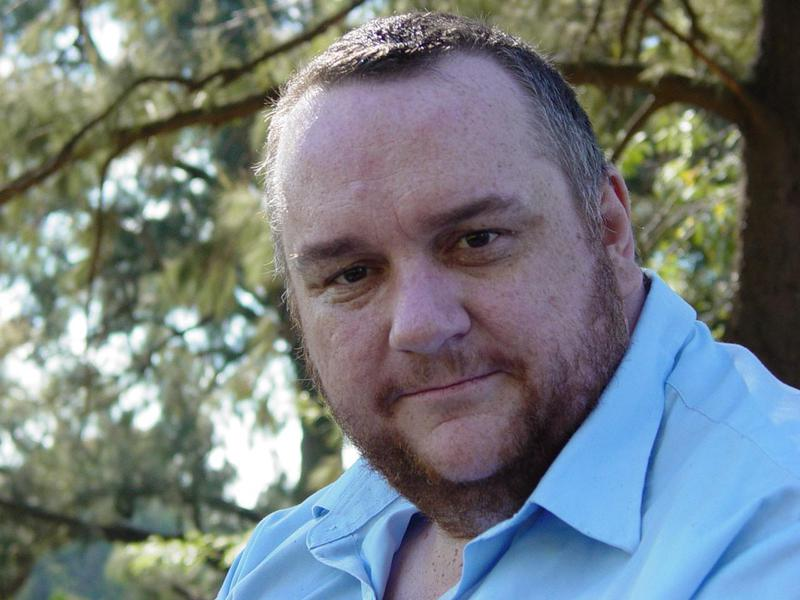person: (219, 9, 800, 600)
